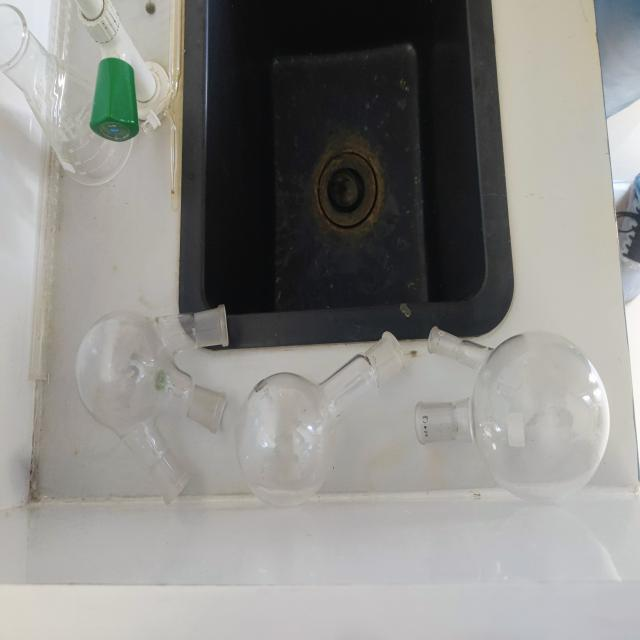Round_Bottom_Flask_Borosilicate_Glass_1_Neck: (239, 314, 409, 511)
Round_Bottom_Flask_Borosilicate_Glass_2_Neck: (399, 282, 615, 524)
Round_Bottom_Flask_Borosilicate_Glass_3_Neck: (66, 276, 239, 519)
